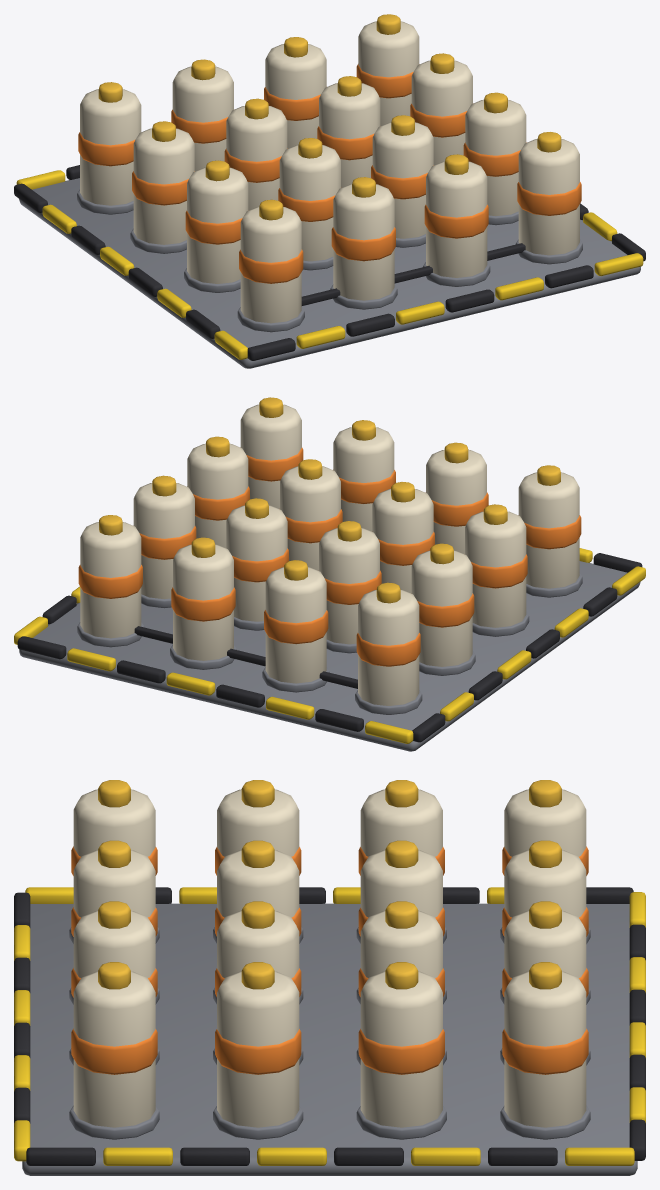
File: ChargePad.glb
The picture shows the model from 3 angles, top to bottom: view 1: azimuth 30°, elevation 25°; view 2: azimuth 150°, elevation 25°; view 3: azimuth 270°, elevation 25°; orthographic projection. The views are drawn at different scales.
Parts seen in each view (by area): view 1: ChargePad; view 2: ChargePad; view 3: ChargePad.
Part boxes in pixels (x1=…): ChargePad: x1=14, y1=14, x2=645, y2=368; ChargePad: x1=14, y1=397, x2=645, y2=751; ChargePad: x1=14, y1=780, x2=645, y2=1175.
Bounding box in the file's own units: 3.08 × 0.93 × 3.08.
